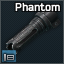M14 Yankee Hill Phantom 7.62x51 muzzle brake & compensator: (0, 0, 64, 64)
